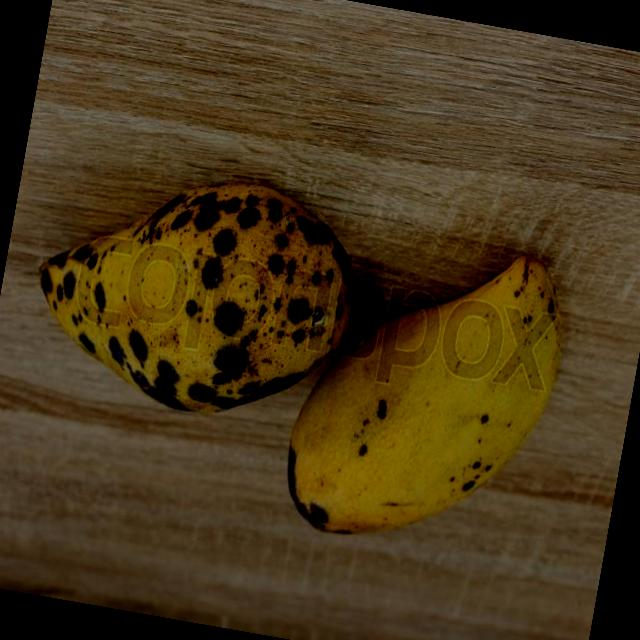Mango: (274, 220, 575, 570), (18, 149, 372, 440)
